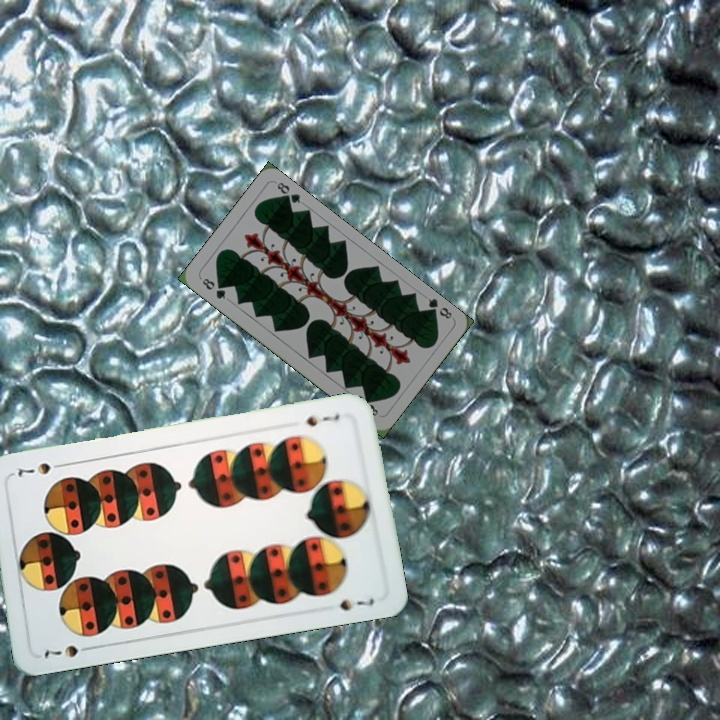G8: (422, 294, 456, 322), (198, 274, 228, 302)
S7: (40, 641, 96, 662), (301, 410, 342, 429)
